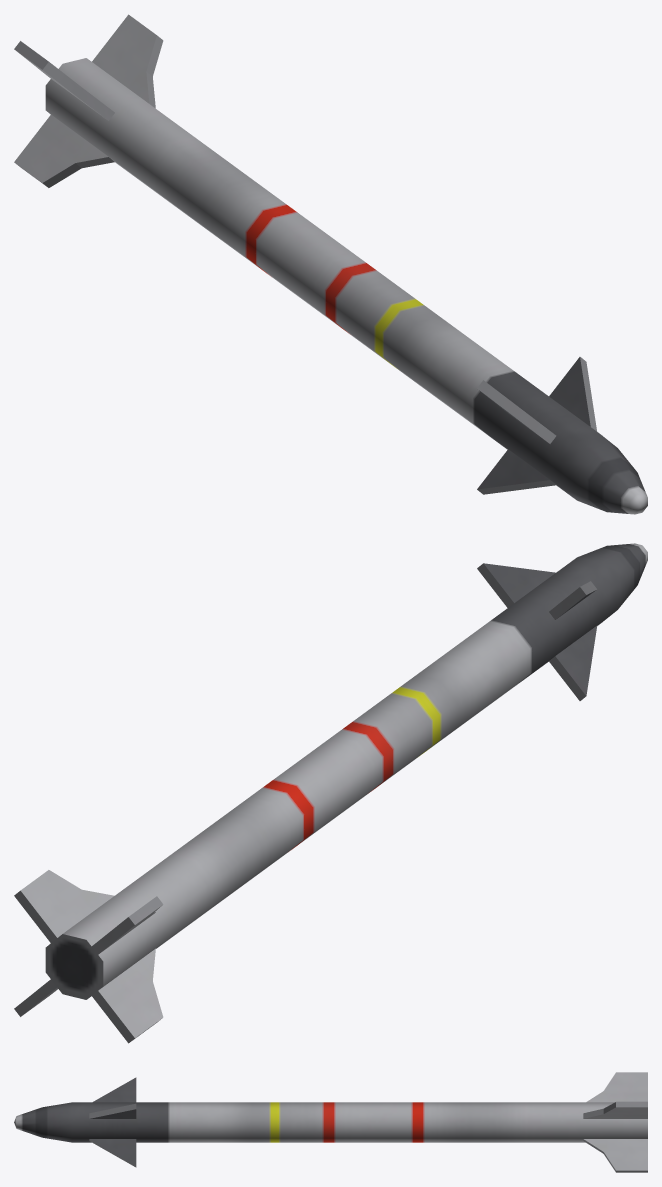
Rendered from hornet_aim9_right.fbx.
3 views of the same model, one above another, from view 1: azimuth 30°, elevation 25°; view 2: azimuth 150°, elevation 25°; view 3: azimuth 270°, elevation 25° (orthographic). The views are drawn at different scales.
Parts seen in each view (by area): view 1: R_aim9; view 2: R_aim9; view 3: R_aim9.
Boxes of the visible parts, bbox=[...] form: R_aim9: bbox=[14, 14, 647, 514]; R_aim9: bbox=[14, 543, 647, 1043]; R_aim9: bbox=[14, 1072, 647, 1172].
Size of the model in its own units: 37.27 by 37.27 by 302.
